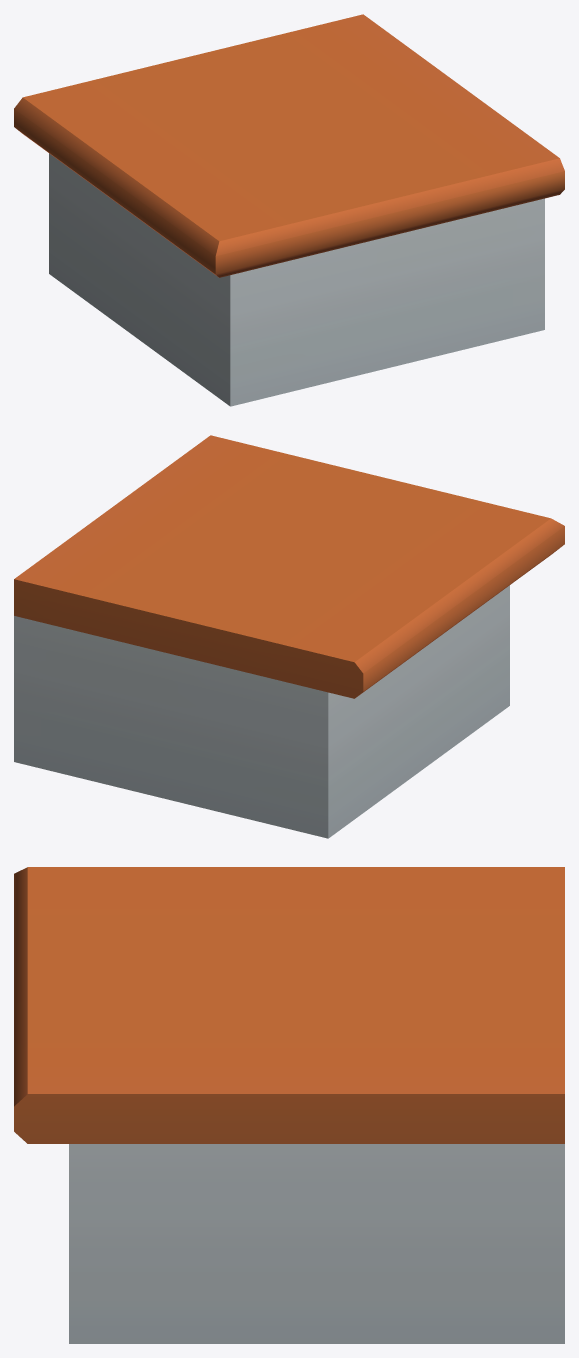
Rendered from kay-bancada-canto.gltf.
3 renders of one model, top to bottom at view 1: azimuth 30°, elevation 25°; view 2: azimuth 150°, elevation 25°; view 3: azimuth 270°, elevation 25°, orthographic. The views are drawn at different scales.
Visible parts, largest first — view 1: kitchencounter_outercorner; view 2: kitchencounter_outercorner; view 3: kitchencounter_outercorner.
Boxes of the visible parts, <box> form: kitchencounter_outercorner: <box>14,14,564,406</box>; kitchencounter_outercorner: <box>14,435,564,838</box>; kitchencounter_outercorner: <box>14,867,564,1343</box>.
Size of the model in its own units: 1.3 by 0.6501 by 1.3.
1 material, 1 textured.
